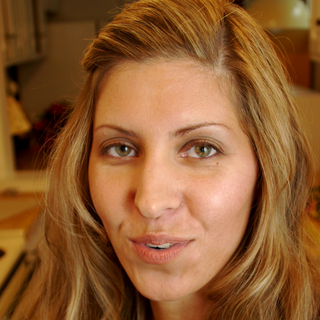eye: (178, 138, 226, 164), (100, 138, 144, 163)
